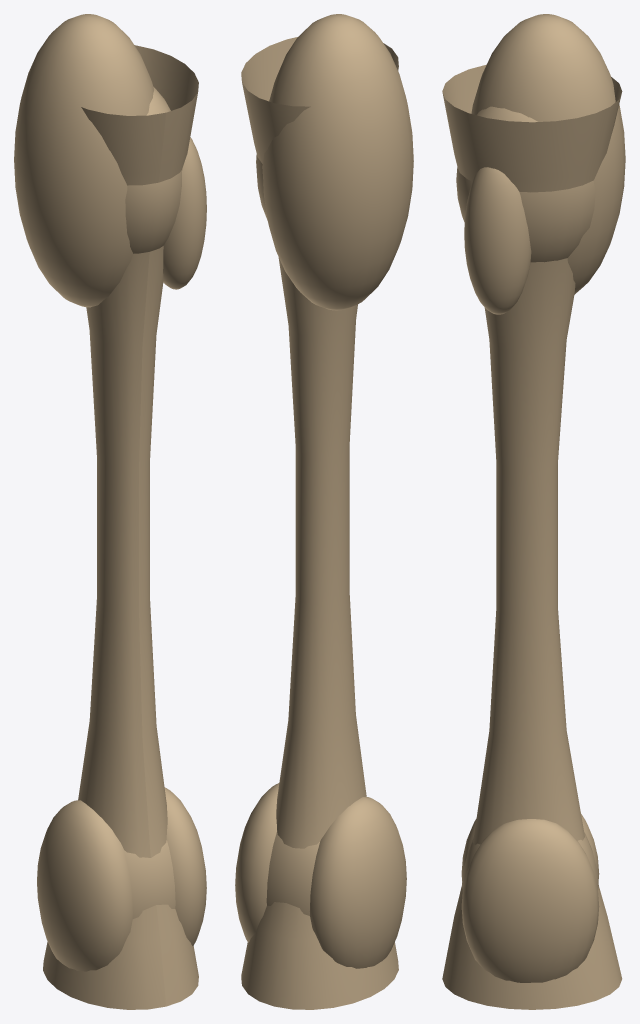
The model's file is left_humerus.glb.
The picture shows the model from 3 angles, left to right: view 1: azimuth 30°, elevation 25°; view 2: azimuth 150°, elevation 25°; view 3: azimuth 270°, elevation 25°; orthographic projection.
Parts seen in each view (by area): view 1: left_humerus:diaphysis, left_humerus:head, left_humerus:condyle--1, left_humerus:condyle-1, left_humerus:tubercle, left_humerus:proximal-envelope, left_humerus:distal-envelope; view 2: left_humerus:diaphysis, left_humerus:head, left_humerus:condyle--1, left_humerus:condyle-1, left_humerus:distal-envelope; view 3: left_humerus:diaphysis, left_humerus:condyle-1, left_humerus:head, left_humerus:tubercle, left_humerus:proximal-envelope, left_humerus:distal-envelope, left_humerus:condyle--1.
Part boxes in pixels (<box>): left_humerus:diaphysis: <box>43,45,198,1009</box>; left_humerus:head: <box>14,14,153,307</box>; left_humerus:condyle--1: <box>37,800,132,971</box>; left_humerus:condyle-1: <box>164,787,206,946</box>; left_humerus:tubercle: <box>163,137,206,289</box>; left_humerus:proximal-envelope: <box>125,87,182,253</box>; left_humerus:distal-envelope: <box>124,840,175,918</box>; left_humerus:diaphysis: <box>241,37,398,1009</box>; left_humerus:head: <box>262,14,413,310</box>; left_humerus:condyle--1: <box>310,796,406,968</box>; left_humerus:condyle-1: <box>235,783,279,942</box>; left_humerus:distal-envelope: <box>266,831,319,915</box>; left_humerus:diaphysis: <box>442,64,622,1009</box>; left_humerus:condyle-1: <box>461,819,599,982</box>; left_humerus:head: <box>471,14,625,294</box>; left_humerus:tubercle: <box>464,167,531,314</box>; left_humerus:proximal-envelope: <box>456,106,595,262</box>; left_humerus:distal-envelope: <box>462,832,598,889</box>; left_humerus:condyle--1: <box>461,814,599,881</box>.
Bounding box in the file's own units: 0.2632 × 1.5 × 0.2632.
